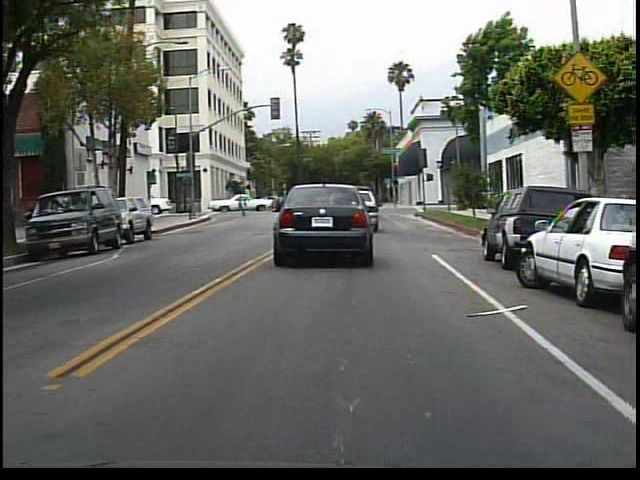person: (228, 187, 248, 218)
